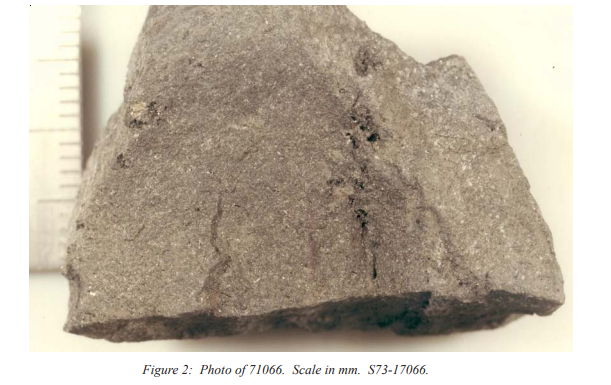Basalt: (53, 19, 567, 336), (217, 111, 532, 293)
